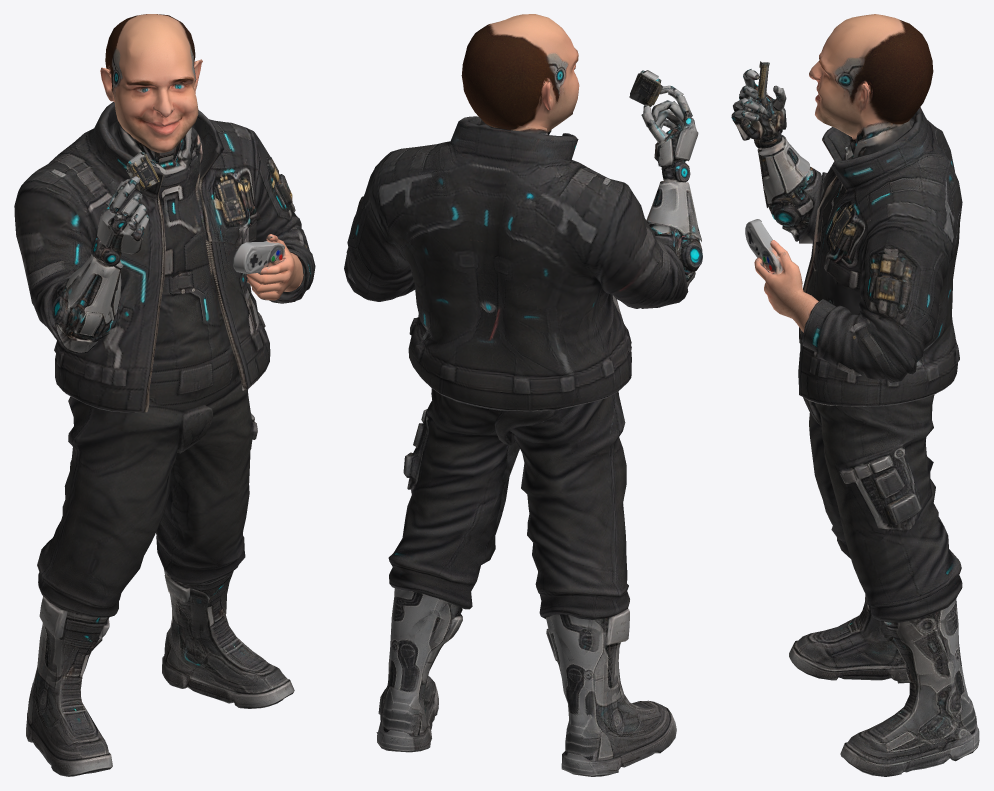
Rendered from projects_avatar.glb.
The picture shows the model from 3 angles, left to right: view 1: azimuth 30°, elevation 25°; view 2: azimuth 150°, elevation 25°; view 3: azimuth 270°, elevation 25°; orthographic projection. The views are drawn at different scales.
Size of the model in its own units: 0.4175 by 0.9507 by 0.3066.
Materials: 1 (1 with a texture image).
